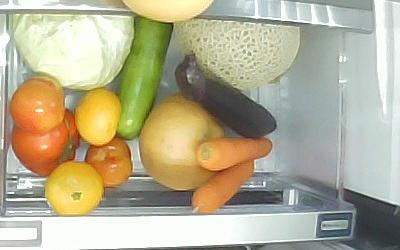cabbage: (10, 14, 136, 92)
carrot: (190, 159, 255, 213), (196, 137, 275, 172)
eggplant: (173, 53, 277, 137)
melon: (175, 20, 299, 91)
pear: (138, 94, 225, 191)
prune: (9, 76, 66, 136), (85, 138, 132, 189)
tangerine: (45, 160, 104, 215), (75, 89, 122, 146)
tomato: (9, 108, 81, 178)
zucchini: (116, 20, 175, 139)
